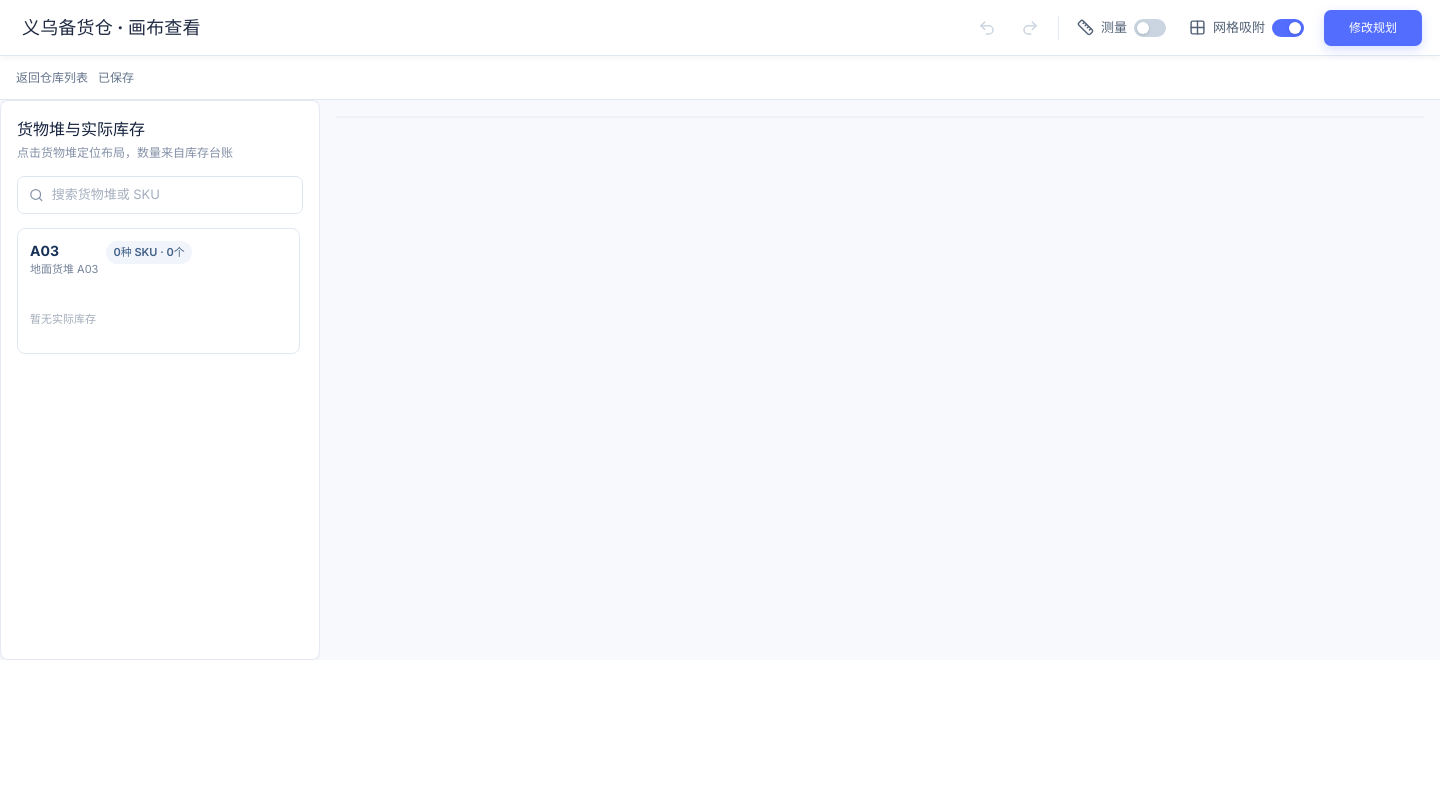
Test case: Warehouse canvas overview › links a zero-stock product through the warehouse page without increasing actual inventory
The width and height of the screenshot is (1440, 810).
Click the button with test id "inventory-pile-pallet-a03" at (64, 269), box x1=17 y1=228 x2=300 y2=354
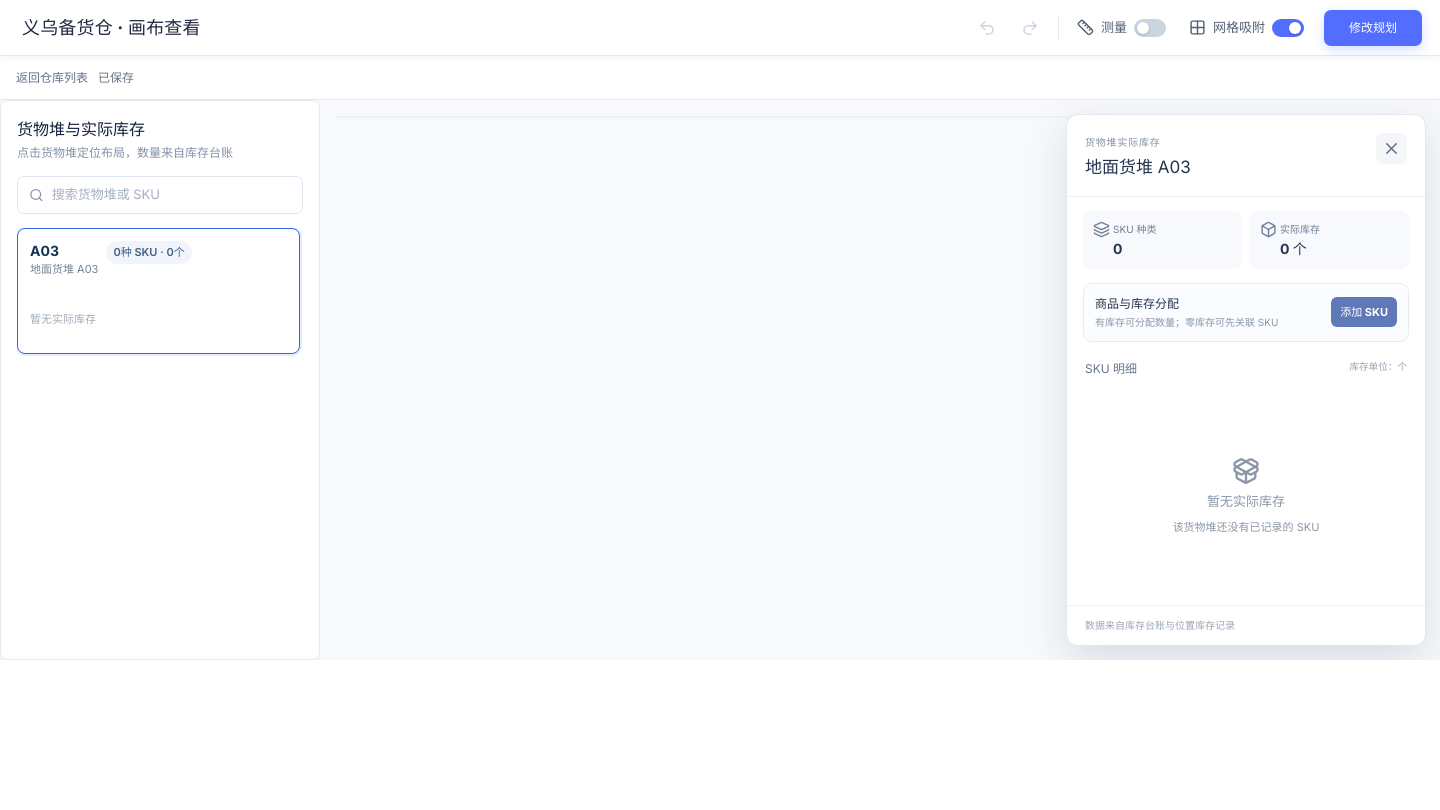
Click the button with test id "inventory-add-sku" at (1364, 312), box x1=1331 y1=297 x2=1397 y2=327
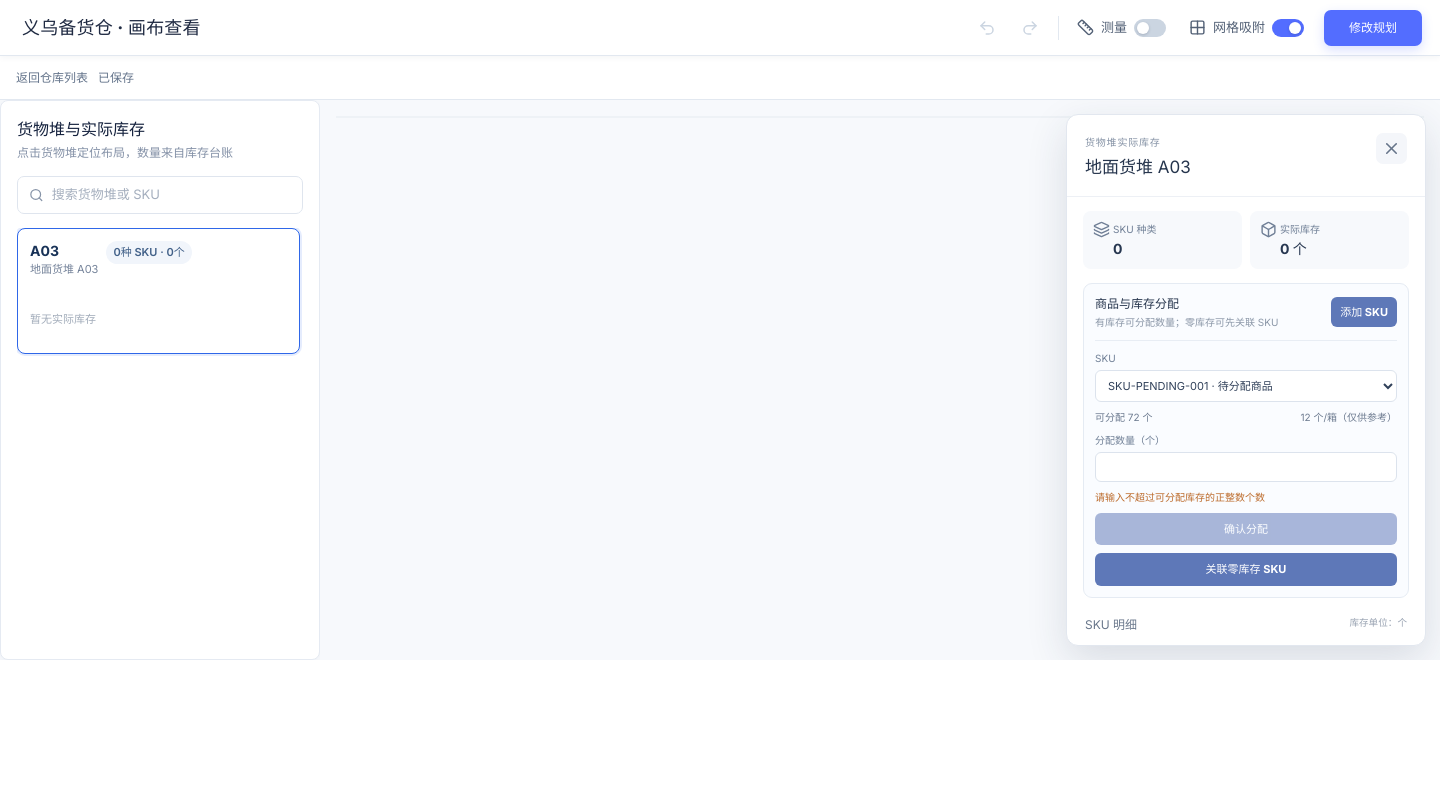
Click the button with test id "inventory-link-mode" at (1246, 569), box x1=1095 y1=553 x2=1397 y2=586
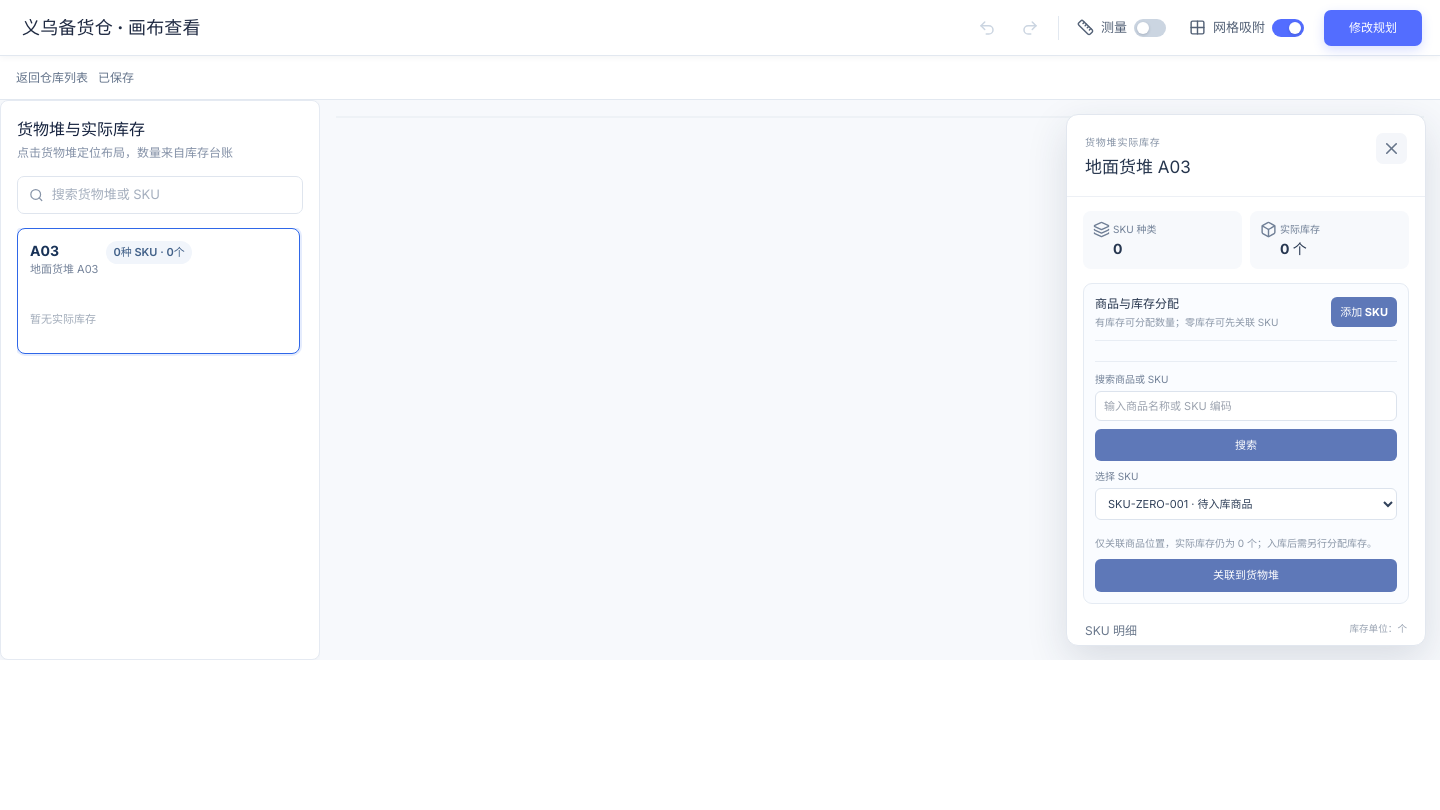
Click the button with test id "inventory-link-submit" at (1246, 575), box x1=1095 y1=559 x2=1397 y2=592
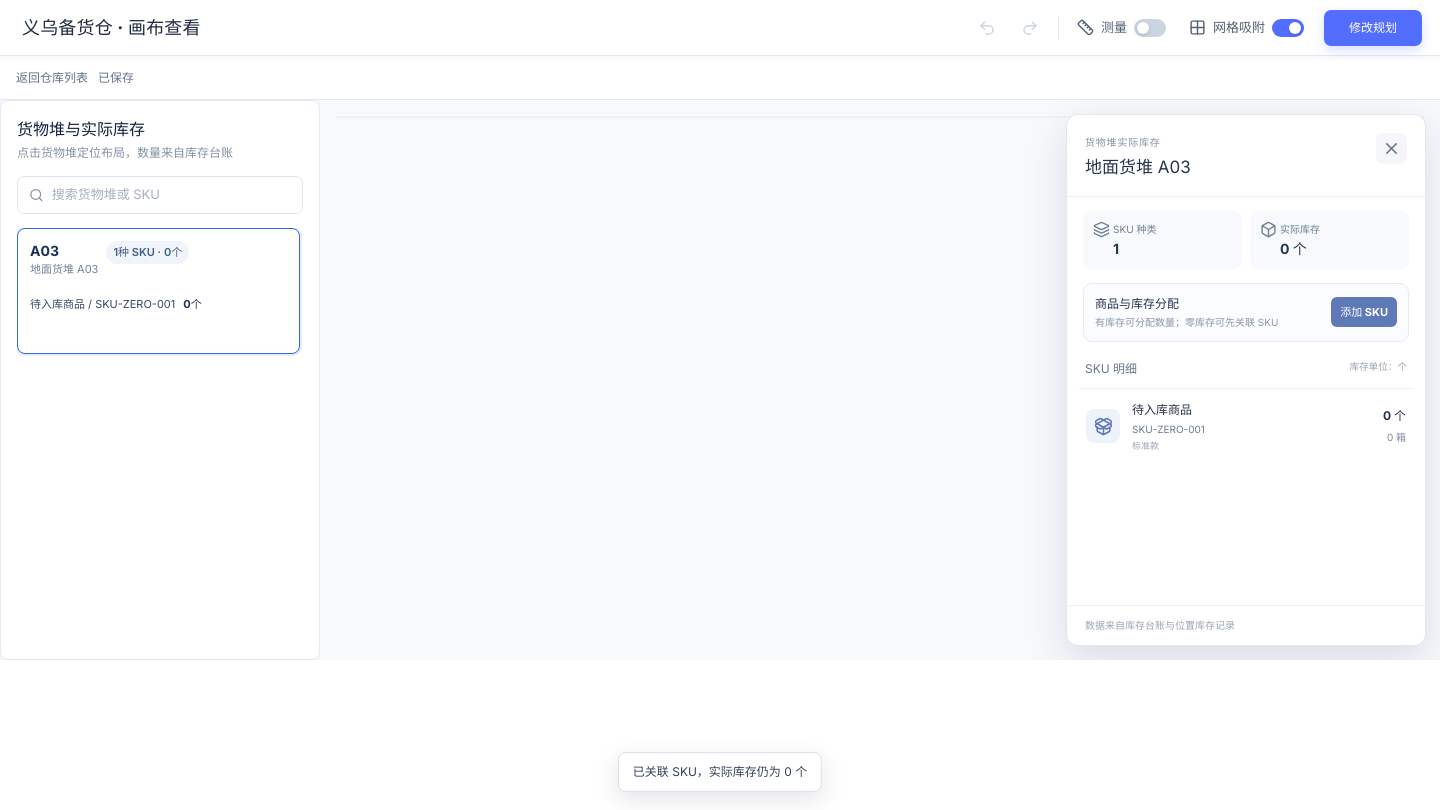
Now the button with test id "inventory-pile-pallet-a03" shows "1种 SKU · 0个", box x1=17 y1=228 x2=300 y2=354
Now the element with test id "inventory-detail-sku" shows "SKU-ZERO-001", box x1=1132 y1=422 x2=1205 y2=434
Now the element with test id "inventory-detail-sku" shows "0 个", box x1=1383 y1=408 x2=1406 y2=423
